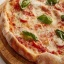basil: (20, 28, 39, 43), (37, 11, 54, 26), (54, 25, 64, 40)
pizza: (3, 1, 64, 63)
